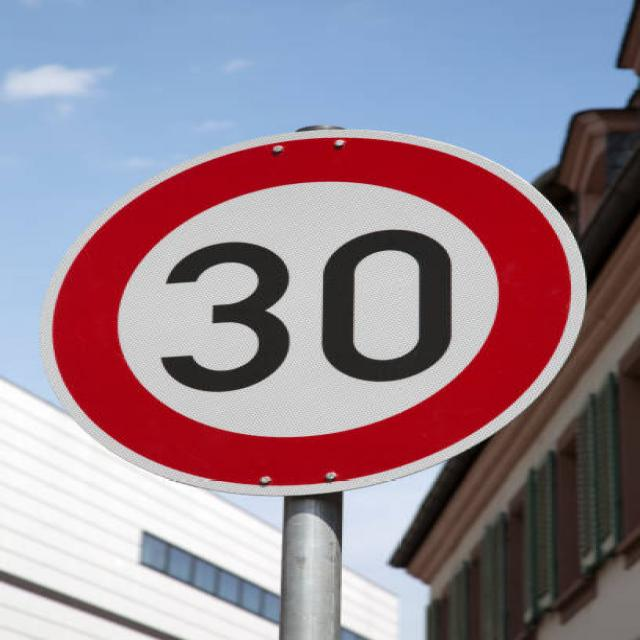speed_limit_30: (24, 117, 600, 496)
